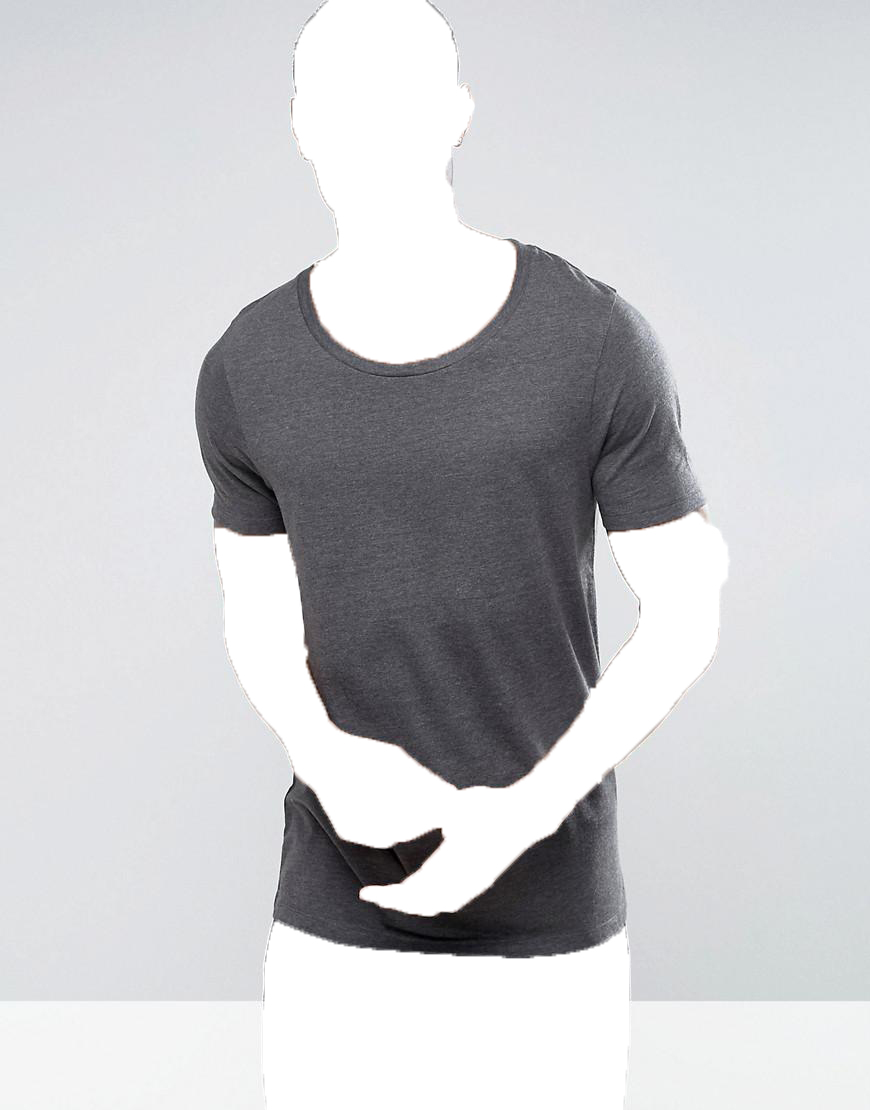teeshirt: (178, 237, 708, 964)
